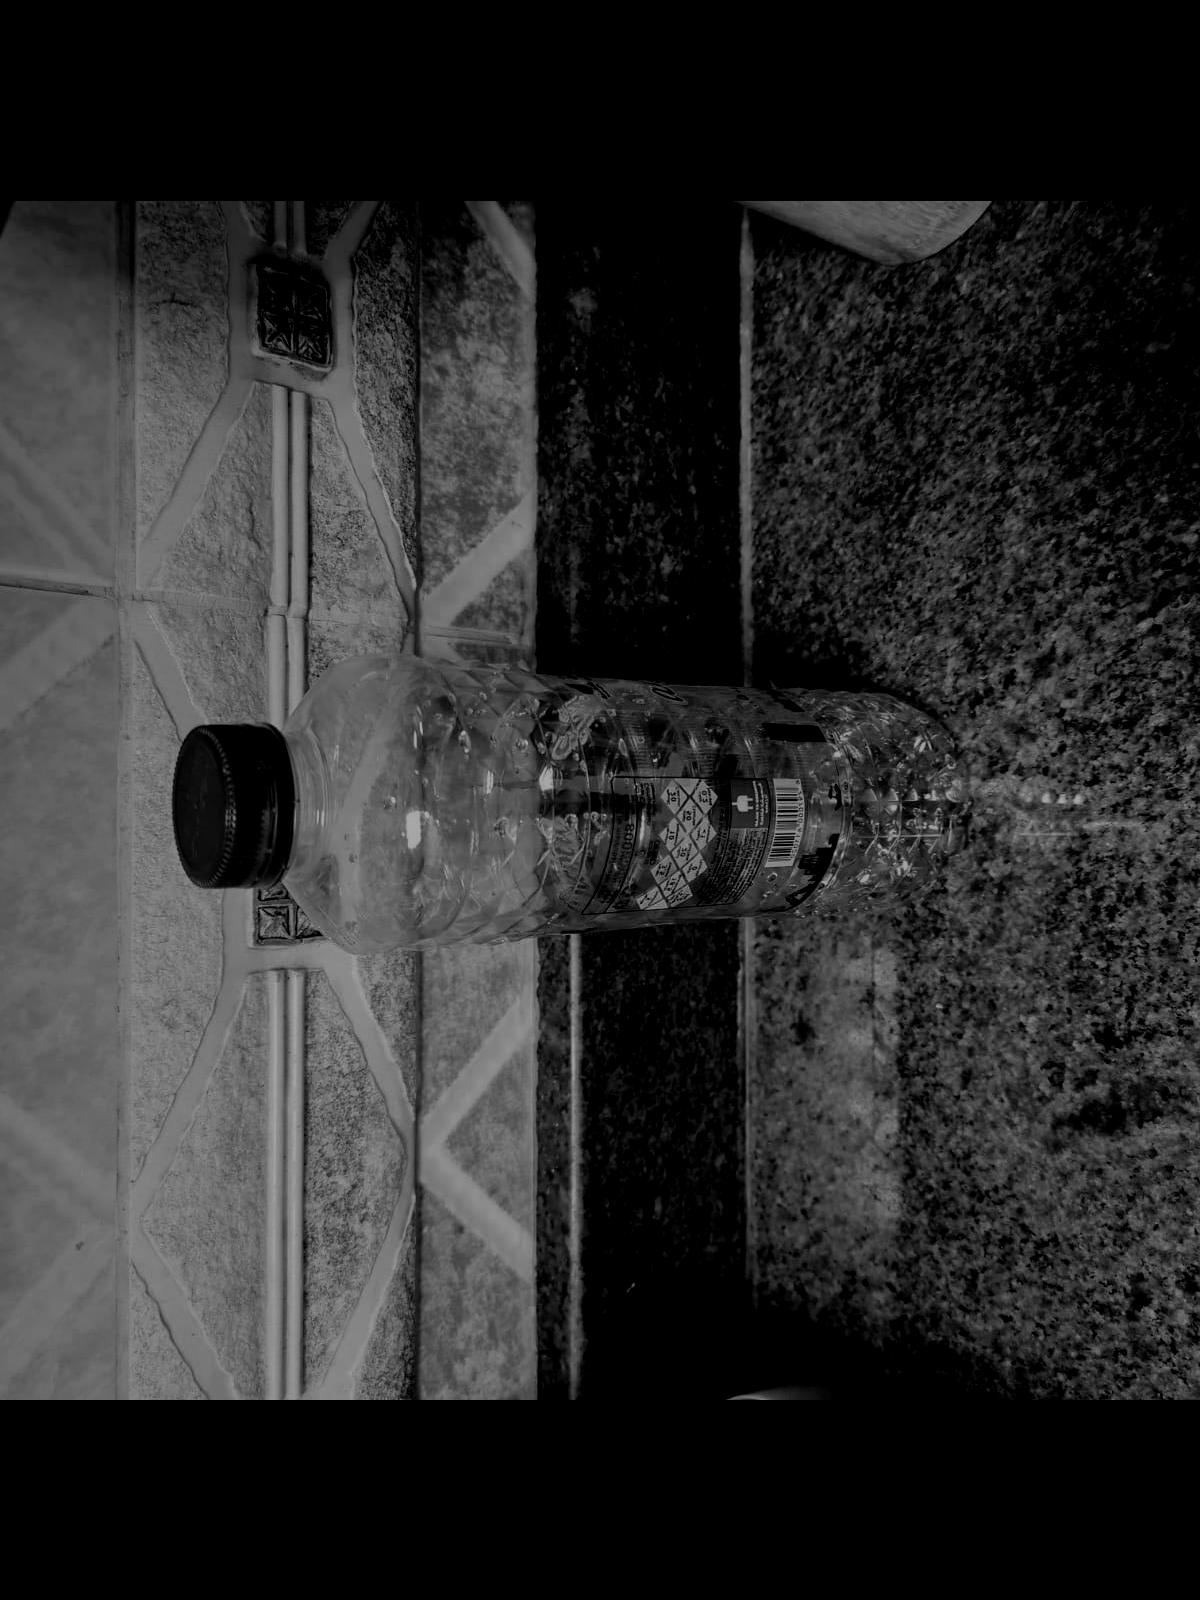bottle: (174, 660, 957, 957)
